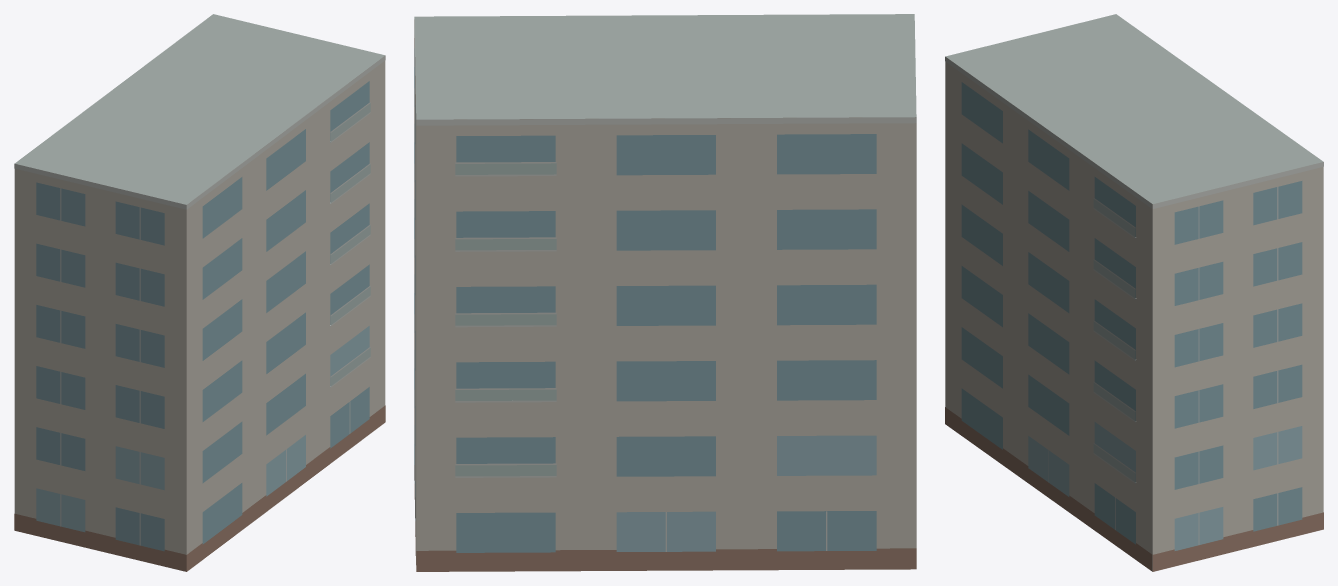
The model's file is survey-upis-32528430.glb.
3 renders of one model, left to right at view 1: azimuth 30°, elevation 25°; view 2: azimuth 150°, elevation 25°; view 3: azimuth 270°, elevation 25°, orthographic. The views are drawn at different scales.
Parts seen in each view (by area): view 1: survey-upis-32528430.tmp; view 2: survey-upis-32528430.tmp; view 3: survey-upis-32528430.tmp.
Boxes of the visible parts, x1=… form: survey-upis-32528430.tmp: x1=14, y1=14, x2=385, y2=571; survey-upis-32528430.tmp: x1=414, y1=14, x2=916, y2=571; survey-upis-32528430.tmp: x1=945, y1=14, x2=1323, y2=571.
Bounding box in the file's own units: 20.32 × 18.3 × 17.09.
